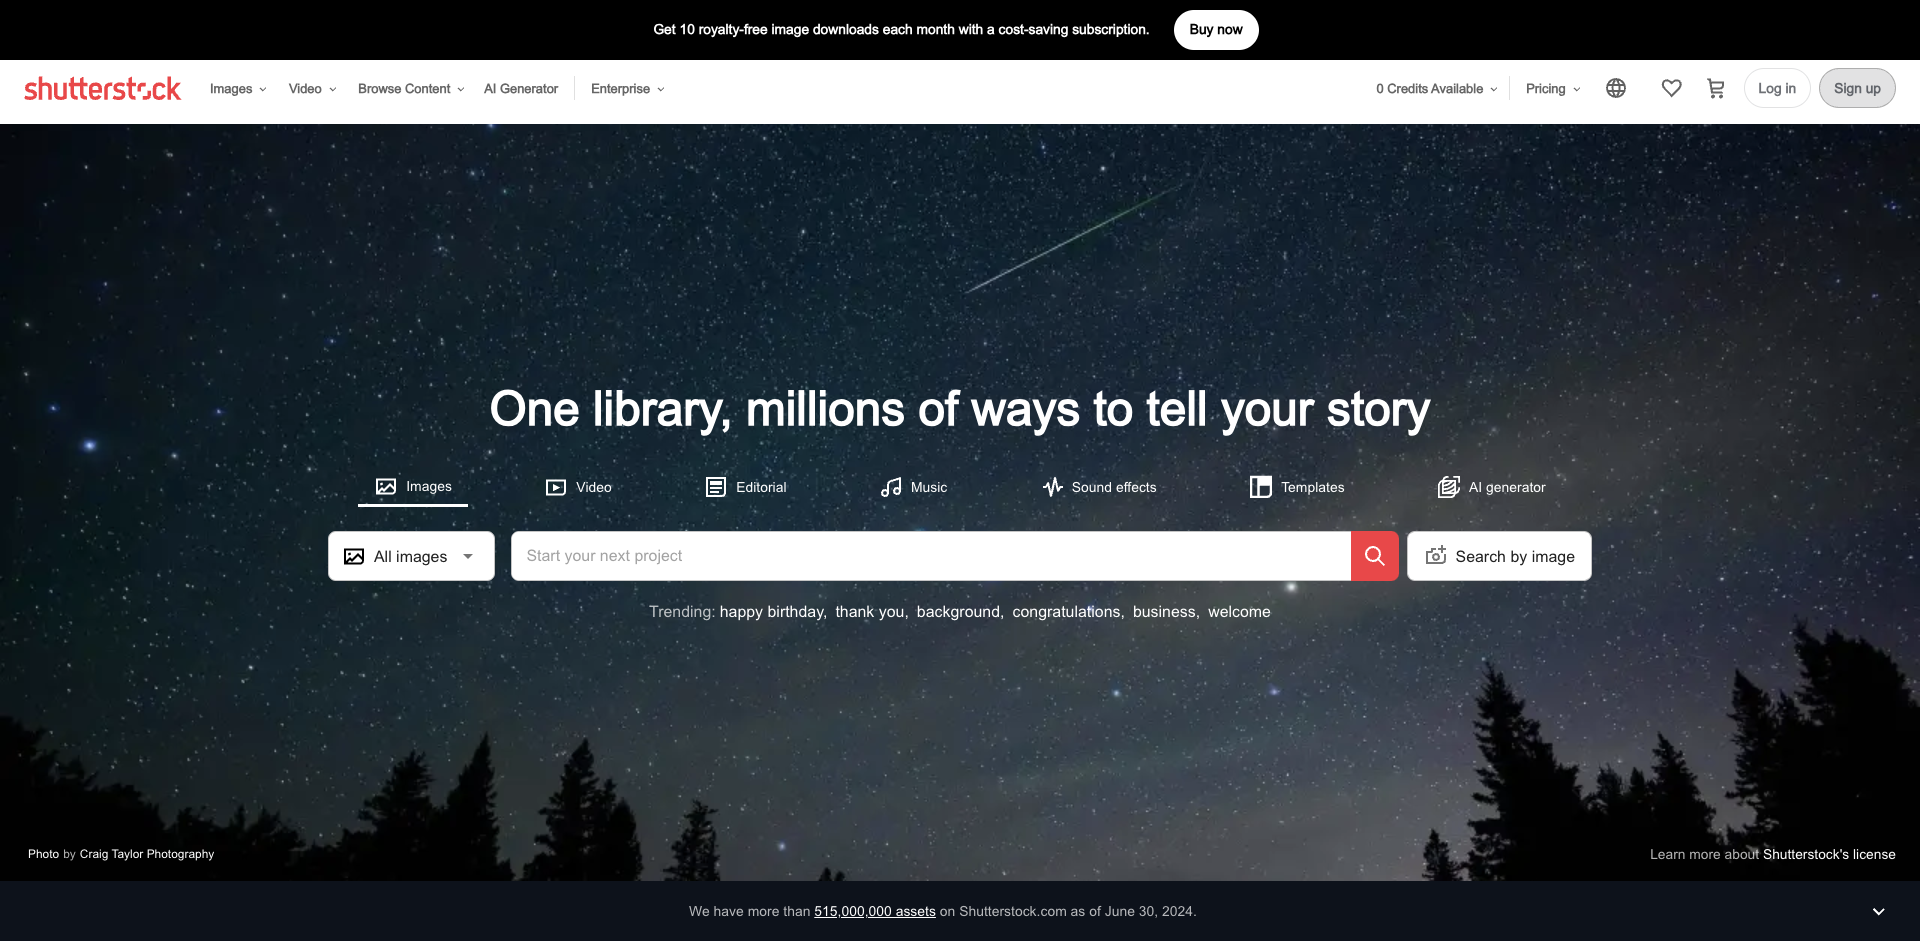button: (1407, 532, 1591, 580), (1024, 469, 1173, 506), (1369, 69, 1501, 109), (1422, 469, 1561, 506), (350, 69, 468, 109), (1233, 469, 1360, 506), (359, 468, 468, 507), (688, 469, 802, 506), (1173, 10, 1266, 50), (528, 469, 628, 506), (863, 469, 964, 506), (476, 67, 566, 108), (1173, 10, 1259, 50), (583, 69, 667, 109), (1820, 67, 1896, 108), (202, 69, 271, 109), (1744, 67, 1811, 108), (278, 69, 343, 109), (1518, 69, 1583, 109), (1583, 67, 1648, 108), (1013, 599, 1125, 622), (720, 599, 828, 622), (1351, 531, 1398, 581), (18, 55, 129, 76), (18, 96, 129, 116), (18, 136, 129, 157), (18, 76, 129, 96), (18, 116, 129, 136), (18, 157, 129, 176), (1376, 80, 1483, 99), (917, 599, 1004, 622), (1862, 881, 1896, 941), (359, 80, 451, 99), (835, 599, 909, 622), (1652, 67, 1691, 108), (1696, 67, 1735, 108), (1133, 599, 1200, 622), (1209, 599, 1271, 622), (591, 80, 650, 99), (211, 80, 252, 99), (1526, 80, 1566, 99), (289, 80, 322, 99)
dropdown: (512, 532, 1351, 580), (328, 523, 496, 588), (1360, 67, 1501, 108), (343, 67, 468, 108), (576, 67, 667, 108), (193, 67, 271, 108), (1510, 67, 1583, 108), (271, 67, 343, 108)
input: (522, 532, 1342, 580), (328, 560, 496, 581)
link: (1013, 597, 1125, 637), (720, 597, 828, 637), (24, 76, 186, 100), (917, 597, 1004, 637), (835, 597, 909, 637), (80, 844, 214, 865), (1133, 597, 1200, 637), (1209, 597, 1271, 637), (1763, 847, 1896, 863), (814, 903, 936, 919), (28, 844, 59, 865)
